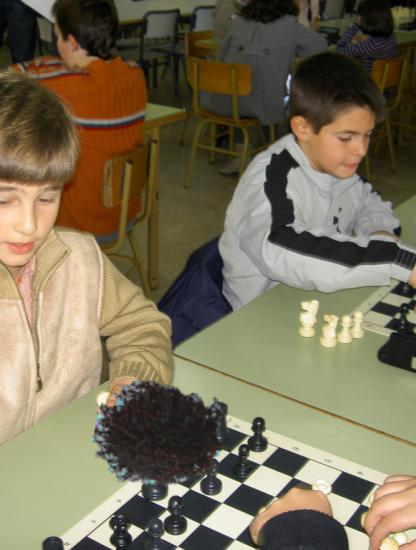Rambutan: (95, 369, 231, 505)
